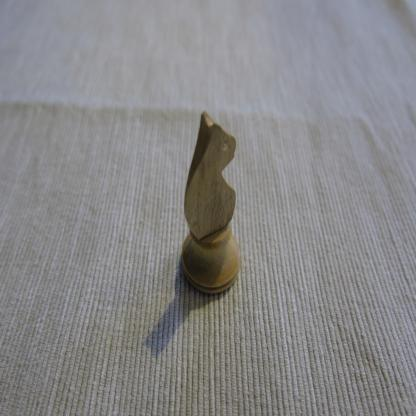white-knight: (180, 108, 242, 298)
